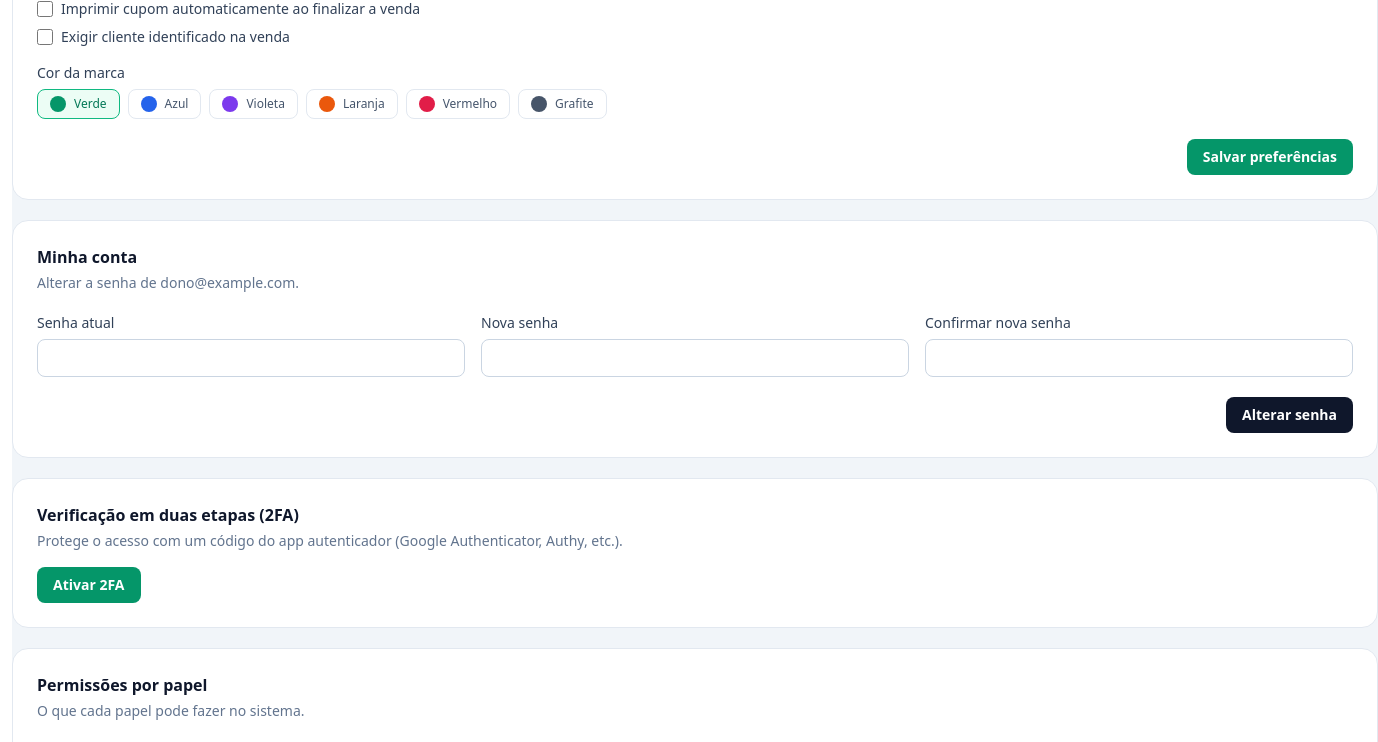
Test: Settings › rejeita a troca de senha quando a confirmação não confere
(page scrolled)
Type "atual123" into the password field labelled "Senha atual" at (251, 358), box top-left (37, 339), bottom-right (465, 377)
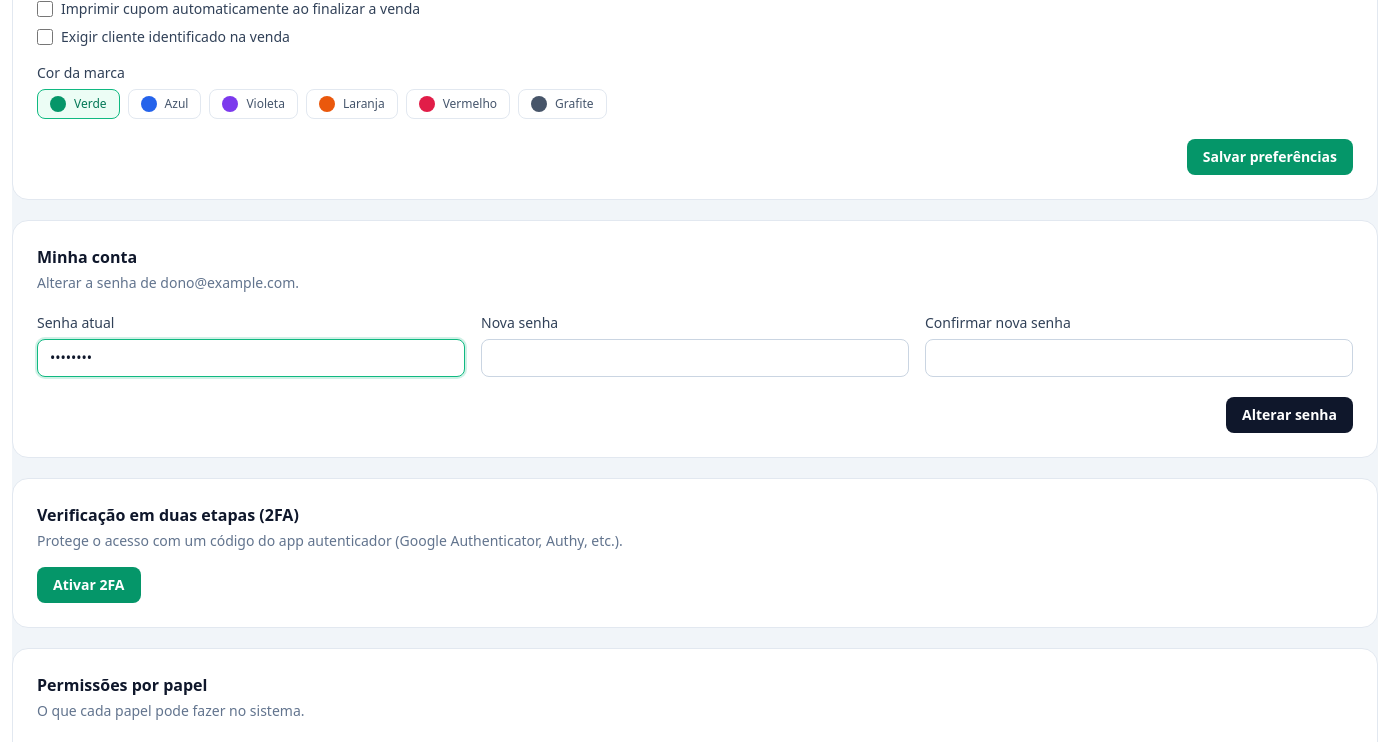
Type "novaSenha123" into the password field labelled "Nova senha" at (695, 358), box top-left (481, 339), bottom-right (909, 377)
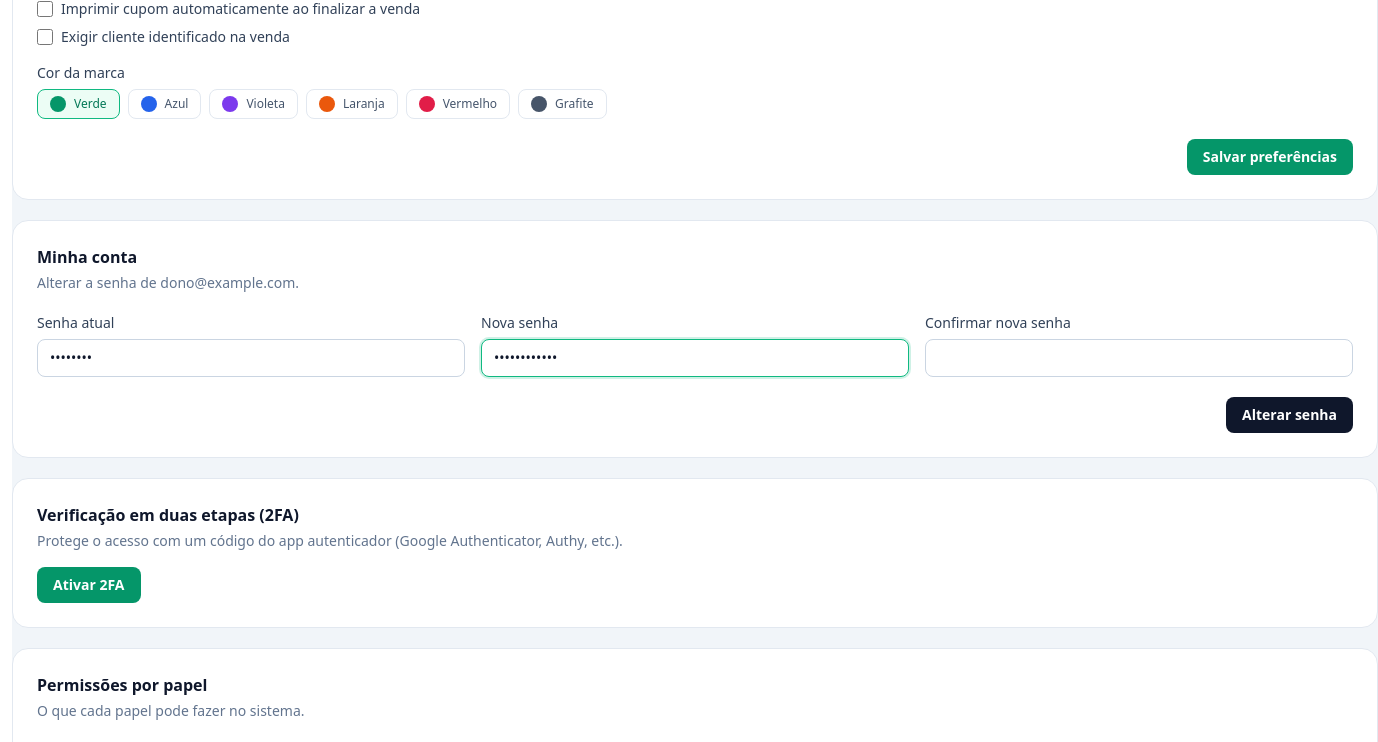
Type "outraSenha123" into the password field labelled "Confirmar nova senha" at (1139, 358), box top-left (925, 339), bottom-right (1353, 377)
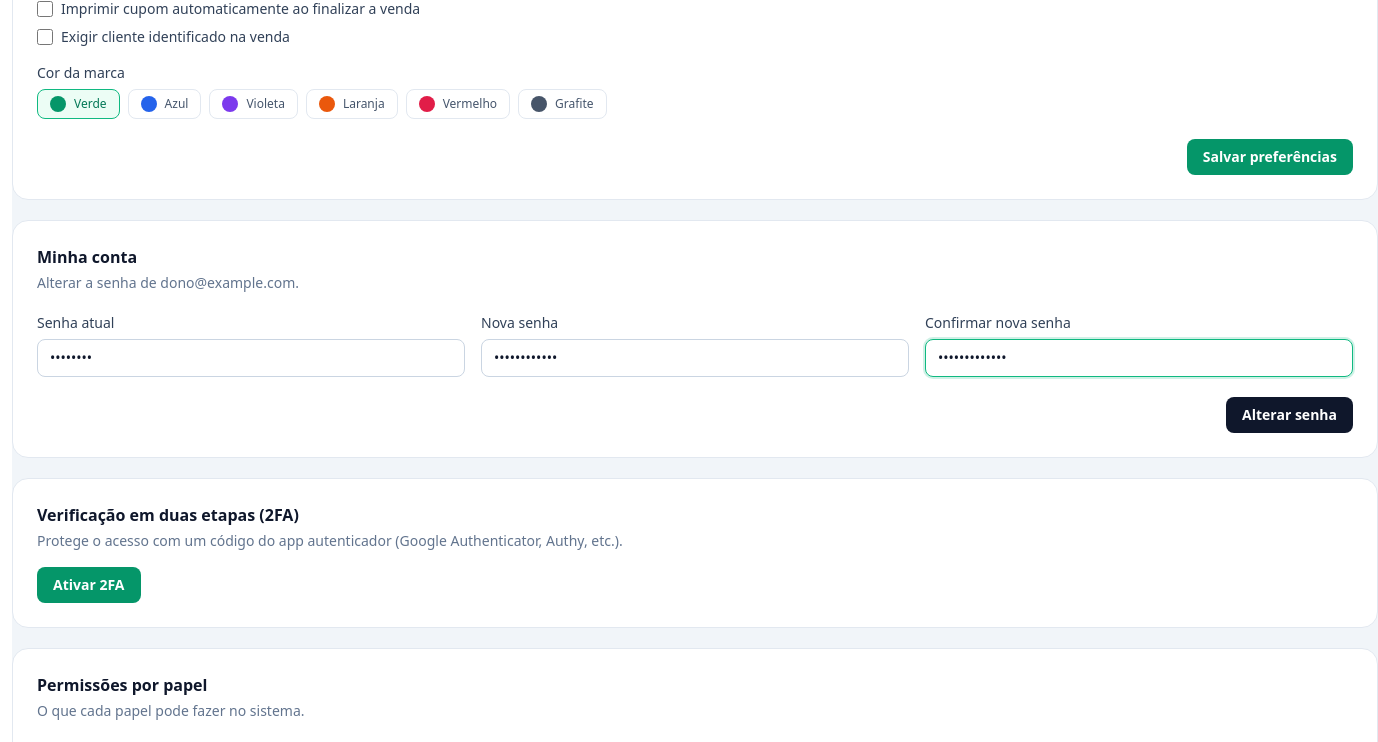
Click the button "Alterar senha" at (1290, 415), box top-left (1226, 397), bottom-right (1353, 433)
(page scrolled)
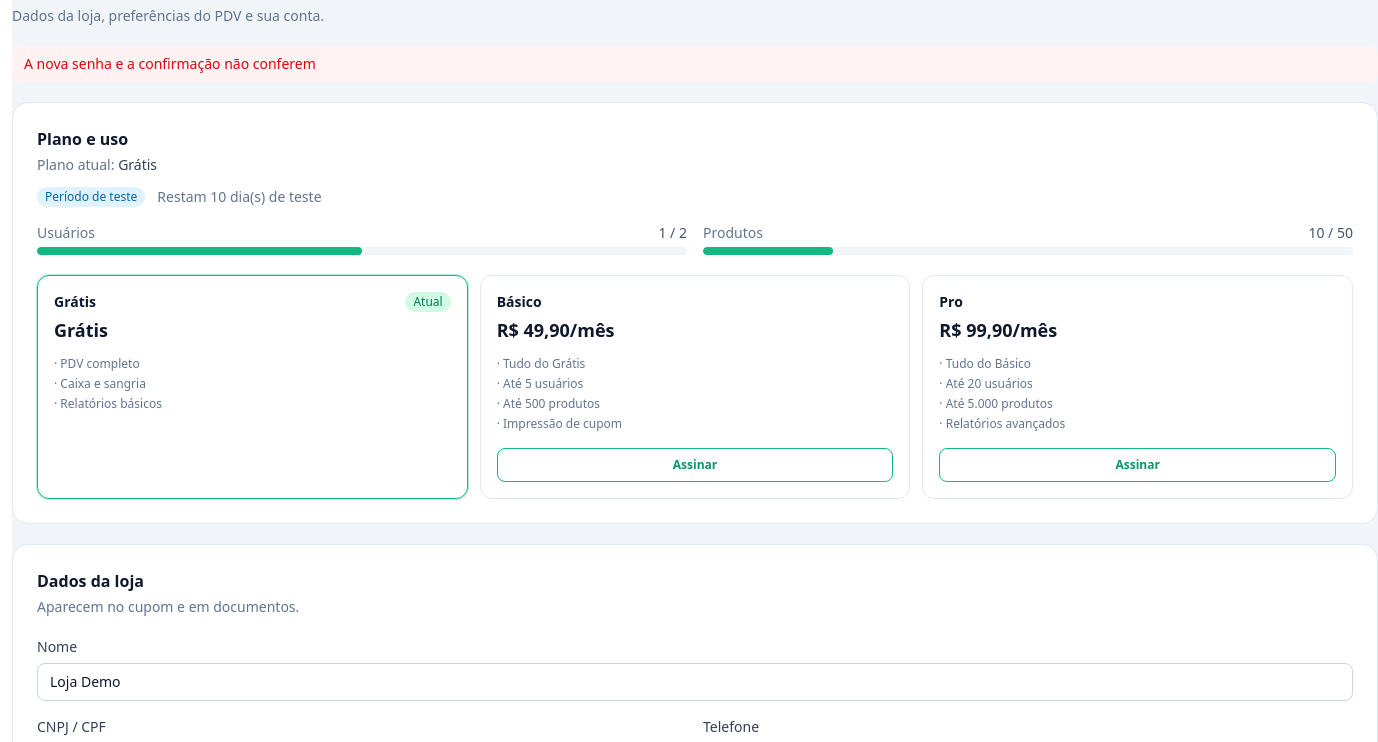
Check: the text "A nova senha e a confirmação não conferem" is shown, box top-left (12, 46), bottom-right (1377, 82)
